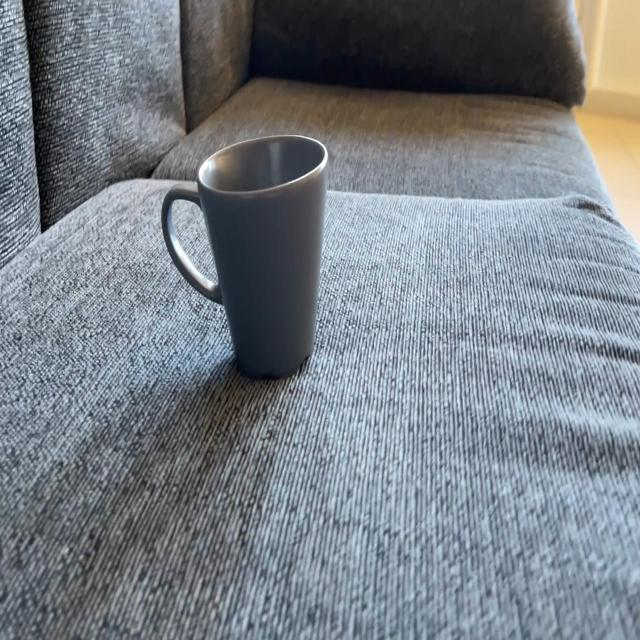cup: (162, 141, 333, 382)
